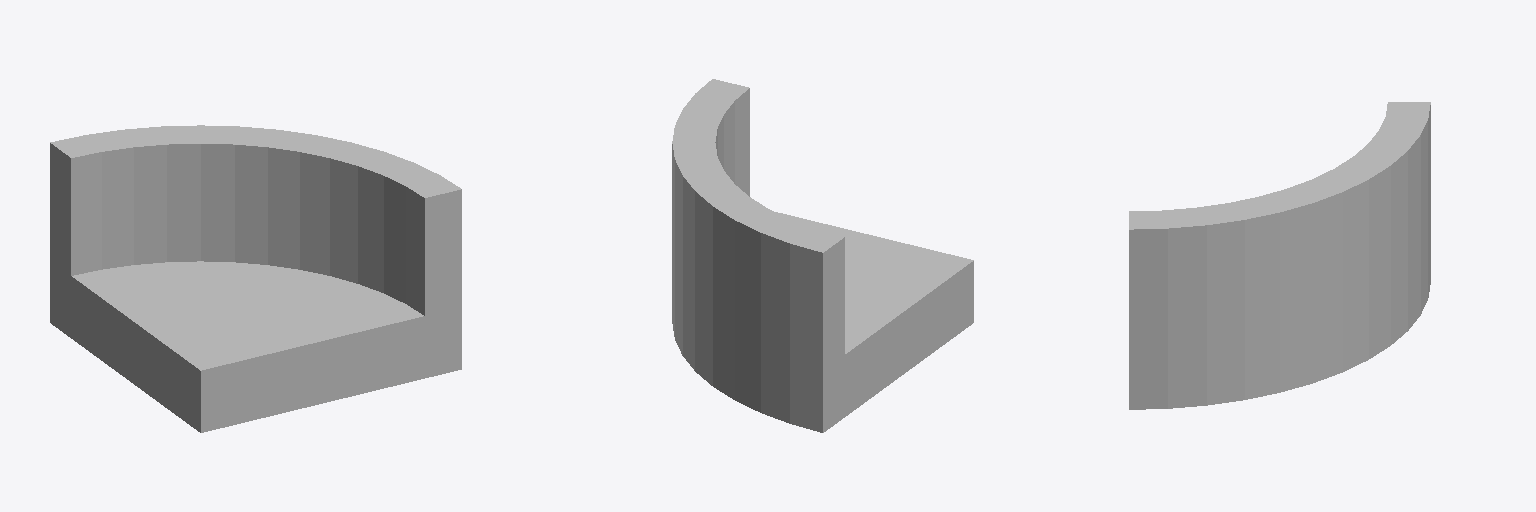
The model's file is tile237.obj.
The picture shows the model from 3 angles: view 1: azimuth 30°, elevation 25°; view 2: azimuth 150°, elevation 25°; view 3: azimuth 270°, elevation 25°; orthographic projection.
Visible parts, largest first — view 1: tile237; view 2: tile237; view 3: tile237.
Boxes of the visible parts, box(x1,y1,x2,y2) form: tile237: box(50, 125, 461, 432); tile237: box(672, 79, 973, 432); tile237: box(1129, 102, 1430, 409).
Bounding box in the file's own units: 0.875 × 0.5767 × 0.875.